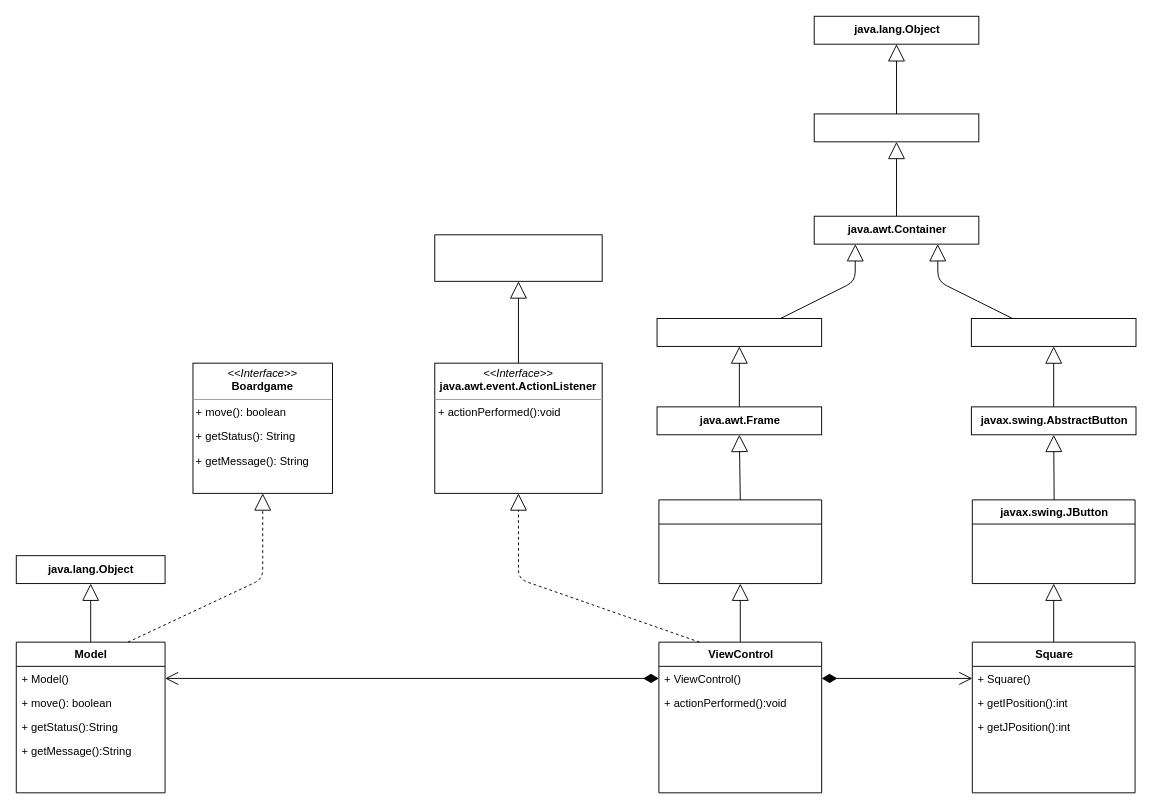
Some shapes in this 1152 by 809 pixel diagram are drawn without their labels. The centre of each missing label's shape, as x and y in pixels:
"java.awt.Component" belongs at pixel 896 127.
"java.awt.Window" belongs at pixel 739 332.
"javax.swing.JComponent" belongs at pixel 1053 332.
"javax.swing.JFrame" belongs at pixel 740 541.
"«interface» java.util.EventListener" belongs at pixel 518 257.
